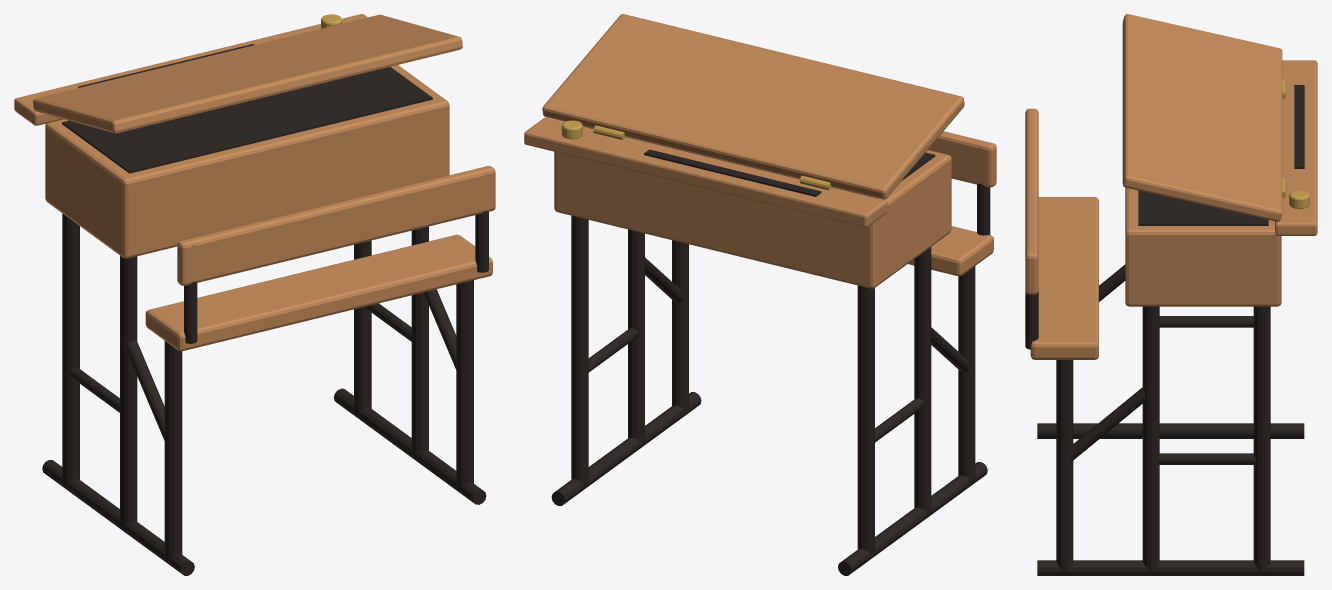
Rendered from hh_cat_school_desk.glb.
3 renders of one model, left to right at view 1: azimuth 30°, elevation 25°; view 2: azimuth 150°, elevation 25°; view 3: azimuth 270°, elevation 25°, orthographic. The views are drawn at different scales.
Parts seen in each view (by area): view 1: book_box, lid, seat, back_rail, inside, frame.001, frame, frame.002, frame.008, frame.006, runner.001, runner (+8 smaller); view 2: lid, book_box, pen_tray, frame.001, frame.007, frame, frame.002, frame.006, frame.008, runner, runner.001, back_rail (+7 smaller); view 3: lid, book_box, seat, pen_tray, frame.007, frame.006, runner.001, frame.008, runner, inside, back_rail, frame.010 (+5 smaller).
Part boxes in pixels (x1,y1,x2,y2): book_box: (45, 65, 449, 258); lid: (33, 14, 462, 133); seat: (145, 234, 492, 351); back_rail: (177, 166, 495, 285); inside: (62, 66, 432, 173); frame.001: (62, 213, 79, 485); frame: (120, 256, 137, 527); frame.002: (164, 341, 182, 560); frame.008: (456, 280, 473, 489); frame.006: (411, 226, 428, 456); runner.001: (334, 388, 486, 504); runner: (42, 460, 194, 575); lid: (542, 14, 964, 199); book_box: (554, 150, 951, 288); pen_tray: (524, 117, 887, 227); frame.001: (857, 285, 874, 555); frame.007: (571, 215, 588, 485); frame: (914, 247, 931, 513); frame.002: (958, 266, 975, 481); frame.006: (628, 229, 644, 444); frame.008: (672, 240, 688, 411); runner: (838, 462, 987, 575); runner.001: (551, 392, 701, 505); back_rail: (928, 131, 996, 187); lid: (1122, 14, 1282, 221); book_box: (1125, 187, 1281, 306); seat: (1030, 197, 1098, 359); pen_tray: (1275, 60, 1317, 235); frame.007: (1253, 306, 1270, 571); frame.006: (1142, 306, 1159, 571); runner.001: (1037, 560, 1304, 575); frame.008: (1056, 360, 1073, 571); runner: (1037, 423, 1304, 438); inside: (1138, 190, 1268, 225); back_rail: (1025, 108, 1038, 294); frame.010: (1070, 387, 1146, 460).
Bounding box in the file's own units: 0.6 × 0.7 × 0.45.
